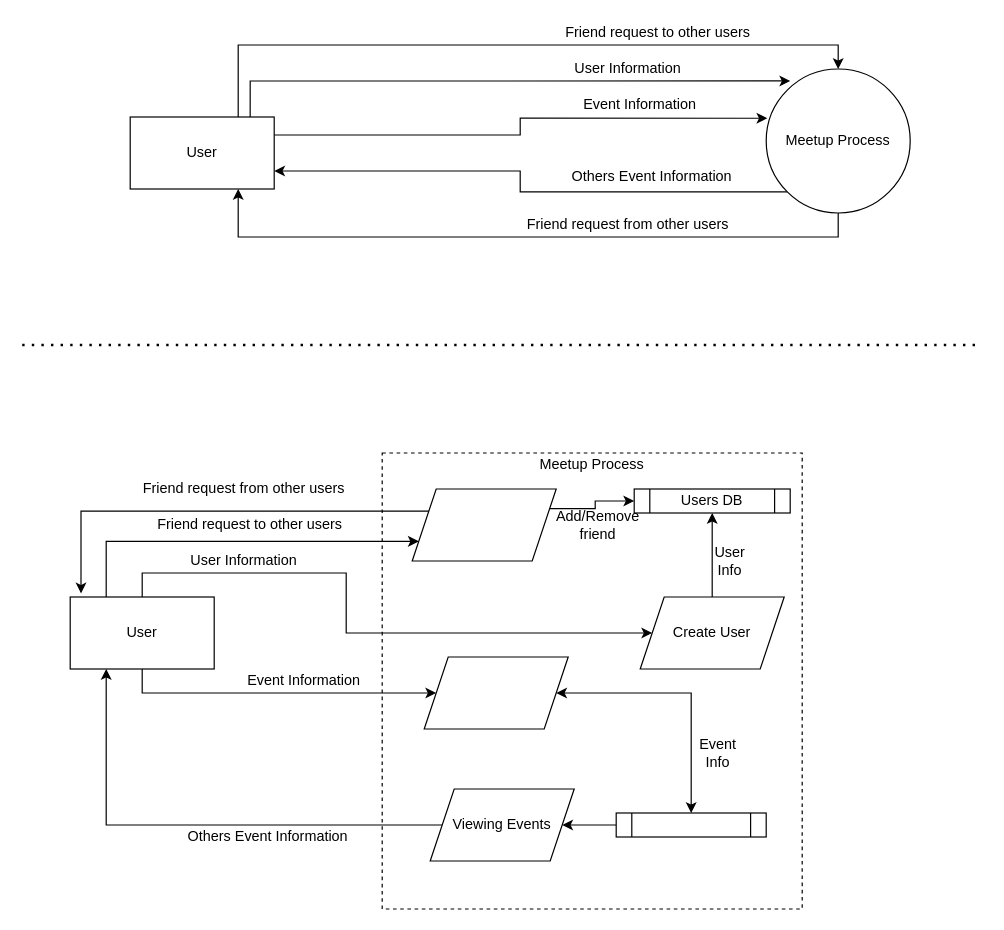
Image size: 1004x930. Some labels were removed from this diagram. Here are the shapes that lost their labels. From the top down, the centre of each, then its label:
[483,524]: Friending User
[495,692]: Creation of Event
[690,824]: Events DB
